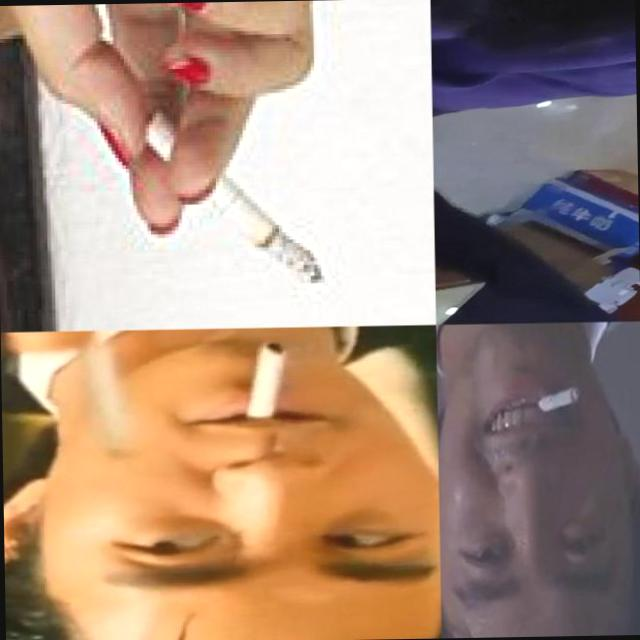smoke: (142, 104, 325, 290), (246, 342, 294, 420), (530, 385, 581, 417)
